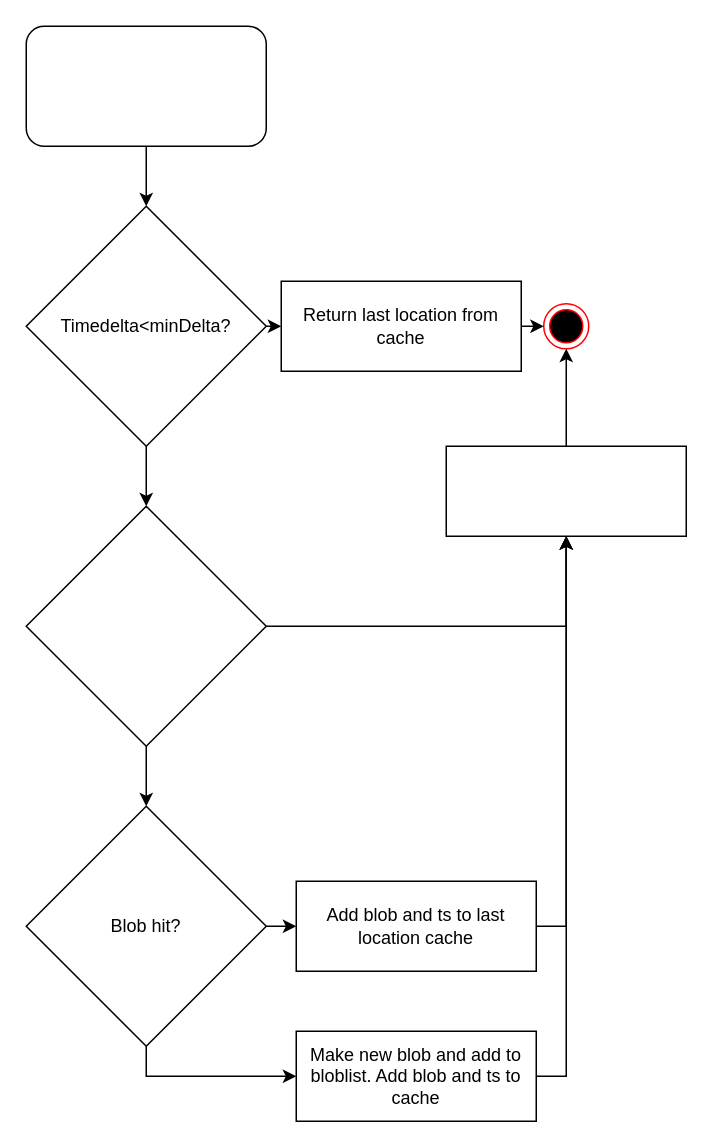
Some shapes in this 713 by 1148 pixel diagram are drawn without their labels. The shapes that lost their labels are listed below. From the top down, each one's centre as x and y in pixels, then its label:
(x=145, y=85): Obfuscate
(x=565, y=490): Return blob and ts
(x=145, y=625): In laatst gebruikte blob?
